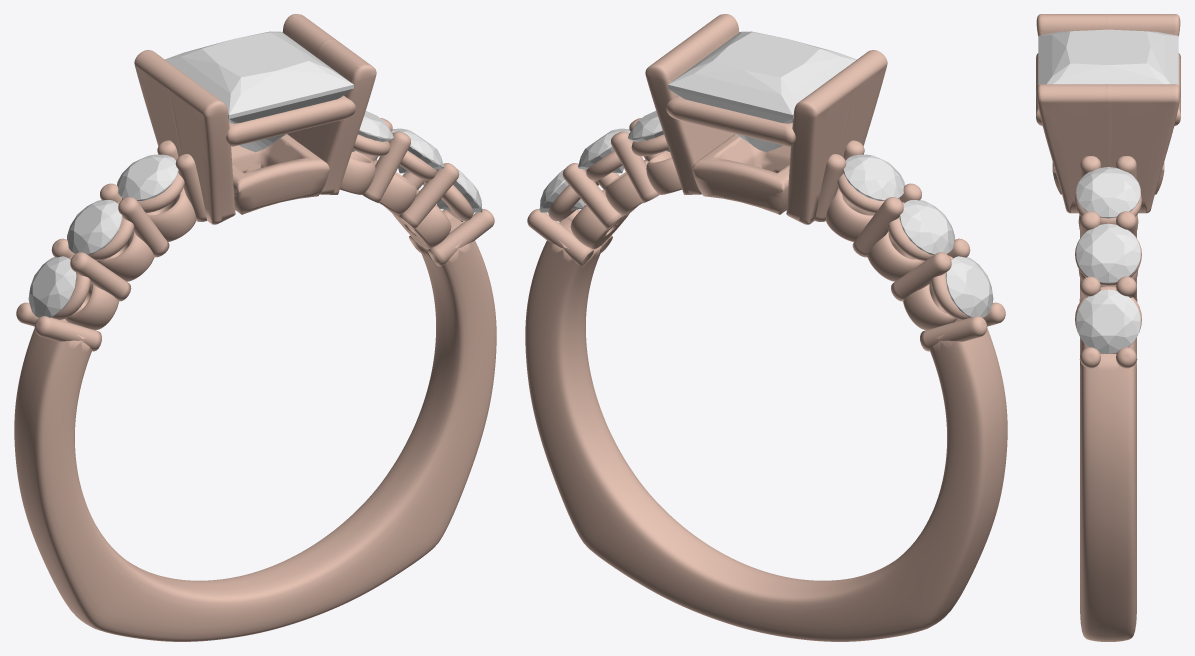
The model's file is diamond-princess-rosegold-halfmoonbezel-europeanshank-7stone.glb.
3 renders of one model, left to right at view 1: azimuth 30°, elevation 25°; view 2: azimuth 150°, elevation 25°; view 3: azimuth 270°, elevation 25°, orthographic. The views are drawn at different scales.
Parts seen in each view (by area): view 1: metal, stone, side.001, side, side.002, side.004, side.003, side.005; view 2: metal, stone, side.001, side, side.002, side.004, side.003, side.005; view 3: metal, stone, side.005, side.004, side.003.
Part boxes in pixels (box(x1,y1,x2,y2)): metal: box(14, 14, 496, 641); stone: box(165, 31, 353, 152); side.001: box(67, 200, 122, 254); side: box(28, 256, 76, 317); side.002: box(117, 154, 178, 200); side.004: box(391, 128, 443, 173); side.003: box(352, 111, 393, 151); side.005: box(436, 169, 482, 212); metal: box(525, 14, 1007, 641); stone: box(668, 31, 856, 152); side.001: box(899, 200, 954, 254); side: box(945, 256, 993, 317); side.002: box(843, 154, 904, 200); side.004: box(578, 128, 630, 173); side.003: box(628, 111, 669, 151); side.005: box(539, 169, 586, 212); metal: box(1036, 14, 1180, 641); stone: box(1038, 29, 1178, 85); side.005: box(1076, 289, 1140, 353); side.004: box(1076, 223, 1140, 283); side.003: box(1076, 167, 1140, 218).
Bounding box in the file's own units: 20.11 × 23.65 × 5.6.
